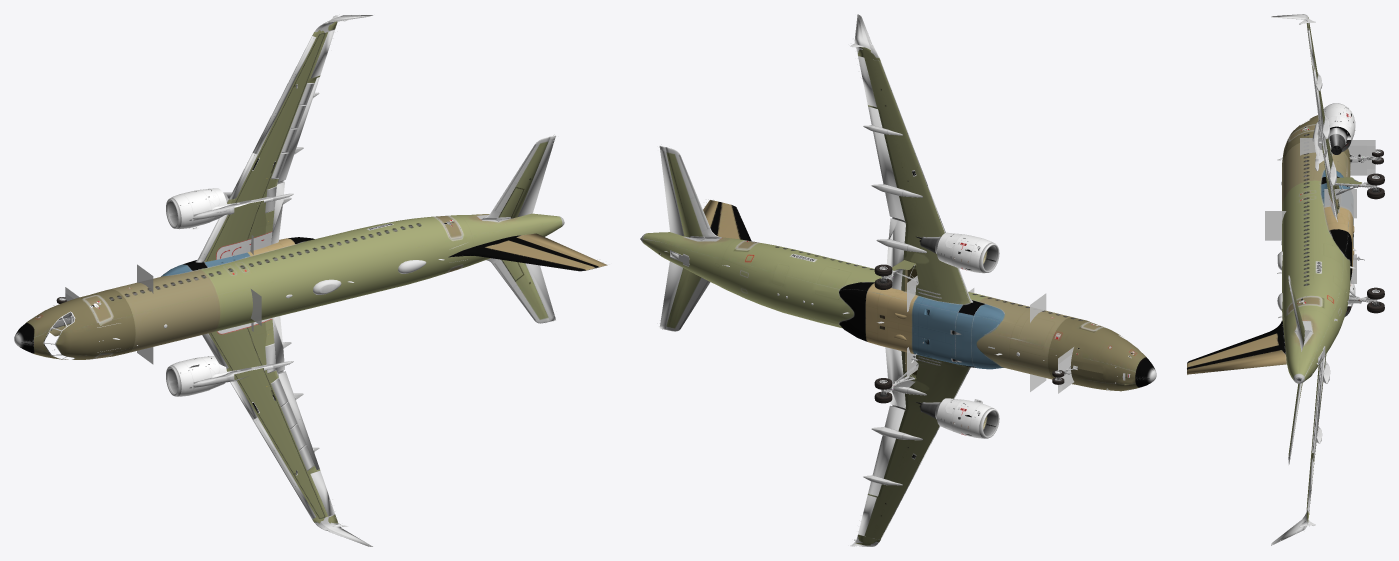
File: a32x-fg.357e2cea.glb
3 views of the same model, side by side, from view 1: azimuth 30°, elevation 25°; view 2: azimuth 150°, elevation 25°; view 3: azimuth 270°, elevation 25° (orthographic).
Parts seen in each view (by area): view 1: Fuselage, Wings, Hstabs, EngineCFM56R, EngineCFM56L, SlatR2, SlatL2, ElevatorR, Sharklet, Rudder, FlapL2; view 2: Fuselage, Wings, Hstabs, EngineCFM56L, EngineCFM56R, FlapR2, FlapL2, ElevatorR, FlapR1, Cargo2, Cargo1, FlapL1 (+2 smaller); view 3: Fuselage, landinglightals (×3), Rudder, Wings, EngineCFM56R, beaconals, Sharklet, Hstabs, MLGWheelsR, MLGWheelsL, Cargo2, PylonCFM56R (+4 smaller).
Part boxes in pixels (bbox=[...]): Fuselage: bbox=[14, 213, 598, 359]; Wings: bbox=[204, 32, 328, 519]; Hstabs: bbox=[481, 136, 549, 323]; EngineCFM56R: bbox=[172, 188, 233, 229]; EngineCFM56L: bbox=[171, 356, 233, 396]; SlatR2: bbox=[229, 36, 316, 199]; SlatL2: bbox=[230, 381, 315, 519]; ElevatorR: bbox=[518, 134, 556, 216]; Sharklet: bbox=[313, 14, 374, 546]; Rudder: bbox=[517, 233, 608, 267]; FlapL2: bbox=[277, 371, 319, 469]; Fuselage: bbox=[640, 201, 1156, 391]; Wings: bbox=[864, 57, 970, 539]; Hstabs: bbox=[665, 147, 720, 331]; EngineCFM56L: bbox=[937, 398, 992, 438]; EngineCFM56R: bbox=[937, 232, 992, 273]; FlapR2: bbox=[868, 106, 904, 221]; FlapL2: bbox=[868, 405, 904, 496]; ElevatorR: bbox=[659, 144, 684, 236]; FlapR1: bbox=[886, 218, 905, 290]; Cargo2: bbox=[815, 267, 850, 299]; Cargo1: bbox=[1018, 317, 1054, 349]; FlapL1: bbox=[885, 347, 905, 408]; Fuselage: bbox=[1186, 115, 1356, 383]; landinglightals (×3): bbox=[1324, 140, 1375, 218]; Rudder: bbox=[1186, 350, 1286, 374]; Wings: bbox=[1307, 25, 1339, 507]; EngineCFM56R: bbox=[1318, 103, 1355, 142]; beaconals: bbox=[1265, 211, 1286, 240]; Sharklet: bbox=[1271, 14, 1308, 545]; Hstabs: bbox=[1288, 275, 1309, 459]; MLGWheelsR: bbox=[1367, 173, 1384, 199]; MLGWheelsL: bbox=[1367, 287, 1384, 313]; Cargo2: bbox=[1324, 243, 1348, 272]; PylonCFM56R: bbox=[1312, 122, 1331, 163].
Size of what is drawn, in the model's own units: 37.61 by 35.77 by 12.24.
Materials: 13 (11 with a texture image).
